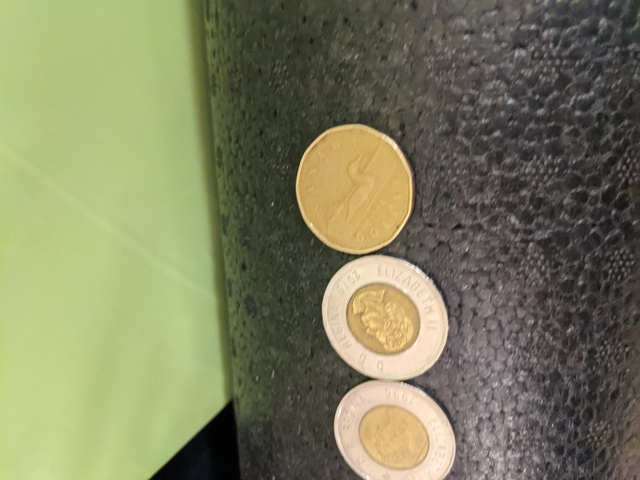loonie: (292, 122, 429, 255)
twonie: (305, 260, 461, 380), (312, 374, 464, 476)
